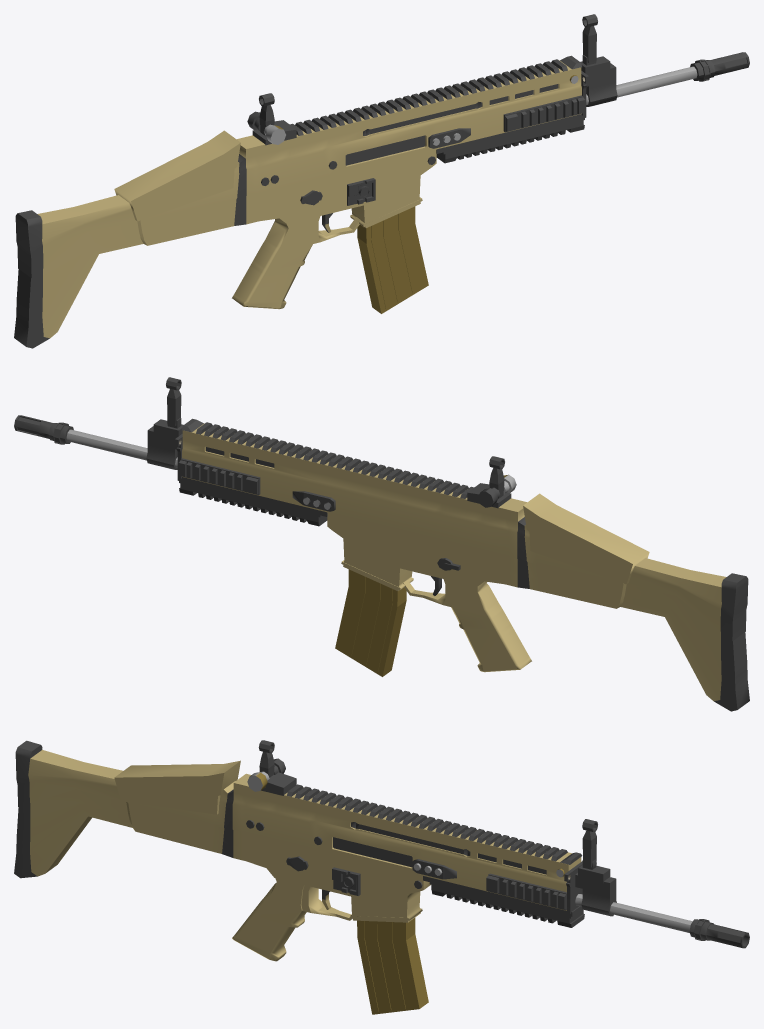
File: gun_scarl_vyrian_light.glb
3 renders of one model, top to bottom at view 1: azimuth 30°, elevation 25°; view 2: azimuth 150°, elevation 25°; view 3: azimuth 330°, elevation 25°, orthographic.
Parts seen in each view (by area): view 1: Gun, Magazine, Rear Sight; view 2: Gun, Magazine, Rear Sight; view 3: Gun, Magazine, Rear Sight, Front Sight.
Boxes of the visible parts, left/top/right/bottom form: Gun: left=14, top=52, right=749, bottom=348; Magazine: left=357, top=206, right=428, bottom=313; Rear Sight: left=582, top=14, right=597, bottom=62; Gun: left=14, top=415, right=749, bottom=711; Magazine: left=335, top=569, right=406, bottom=676; Rear Sight: left=166, top=377, right=181, bottom=425; Gun: left=14, top=740, right=749, bottom=961; Magazine: left=357, top=918, right=428, bottom=1014; Rear Sight: left=582, top=819, right=597, bottom=867; Front Sight: left=258, top=740, right=274, bottom=777.
Bounding box in the file's own units: 9.62 × 3.08 × 0.5327.
1 material, 1 textured.
